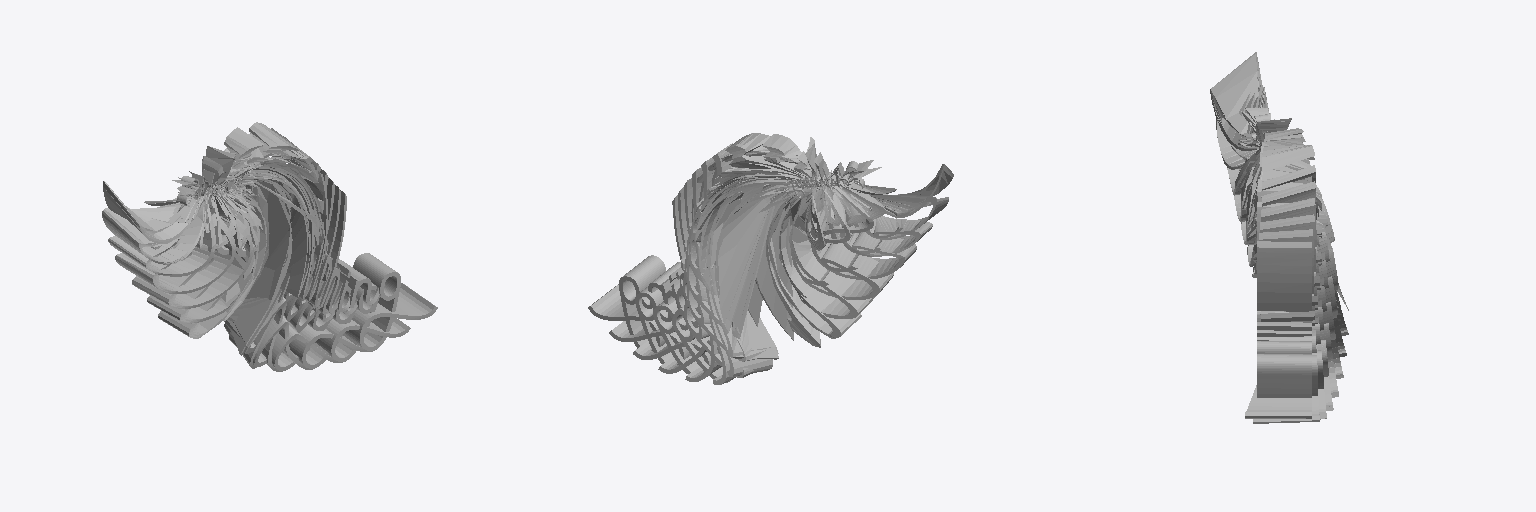
Rendered from sk2017_lockup_v3.obj.
3 renders of one model, left to right at view 1: azimuth 30°, elevation 25°; view 2: azimuth 150°, elevation 25°; view 3: azimuth 270°, elevation 25°, orthographic.
Visible parts, largest first — view 1: Sketching_Mesh.003; view 2: Sketching_Mesh.003; view 3: Sketching_Mesh.003.
Boxes of the visible parts, x1=… form: Sketching_Mesh.003: x1=102, y1=122, x2=437, y2=371; Sketching_Mesh.003: x1=588, y1=133, x2=953, y2=384; Sketching_Mesh.003: x1=1210, y1=52, x2=1348, y2=423.
Size of the model in its own units: 3.43 by 2.48 by 1.26.